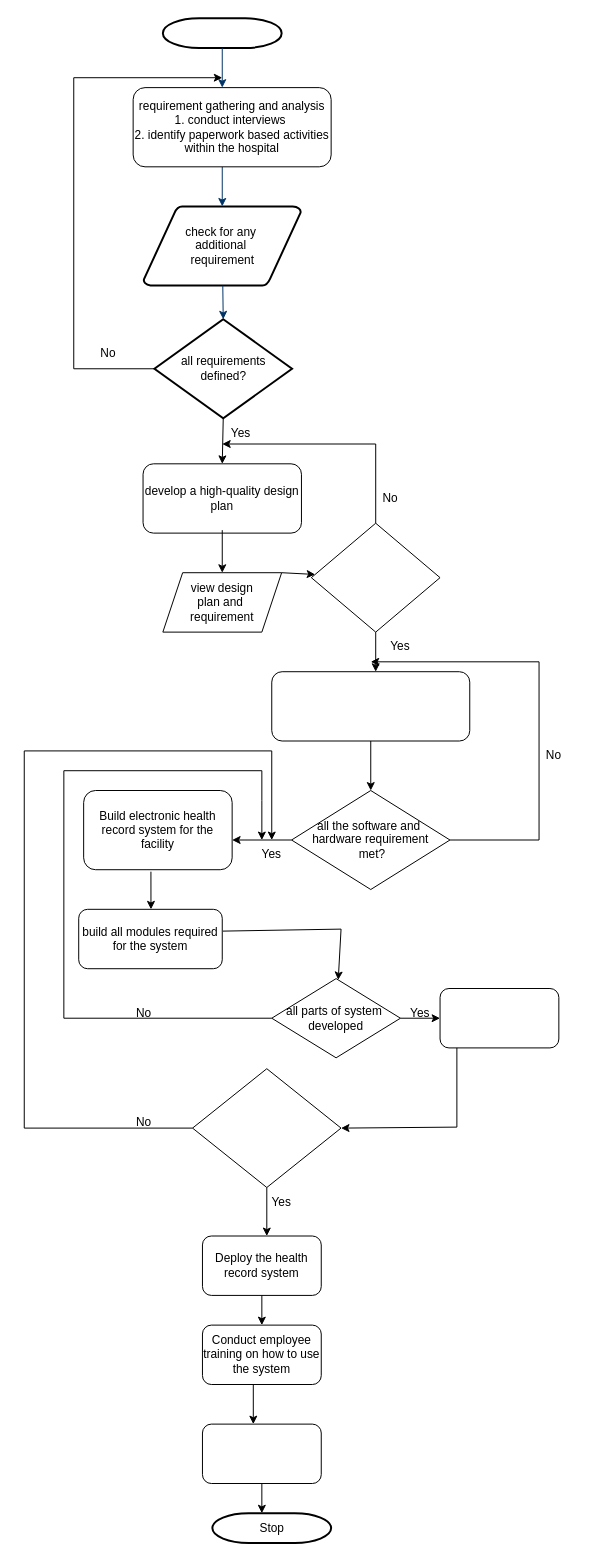
The diagram is 601 pixels wide and 1560 high, and some of its shapes have lost their labels. The box of each missing label's shape, as (x1, y1, x2, y2) in pixels:
all component and access working as required: (192, 1068, 341, 1188)
Determine the hardware and software requirements: (271, 671, 470, 741)
Does design meet all requirements?: (310, 522, 440, 632)
Perform Regular maintainance and upgrading: (201, 1423, 321, 1484)
perform system testing: (439, 988, 559, 1048)
start: (161, 17, 282, 49)
